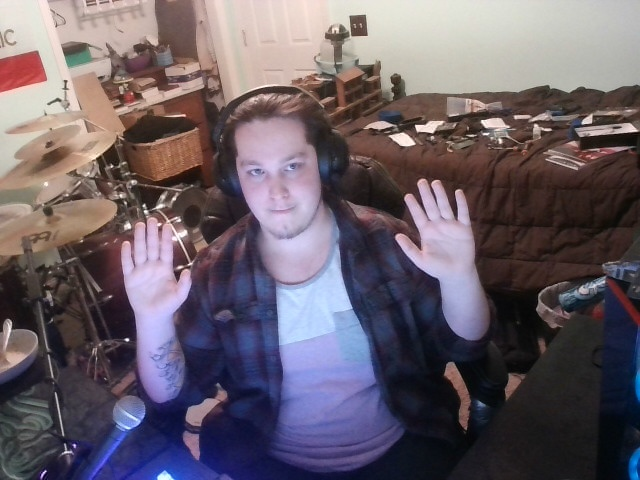great: (99, 175, 484, 325)
